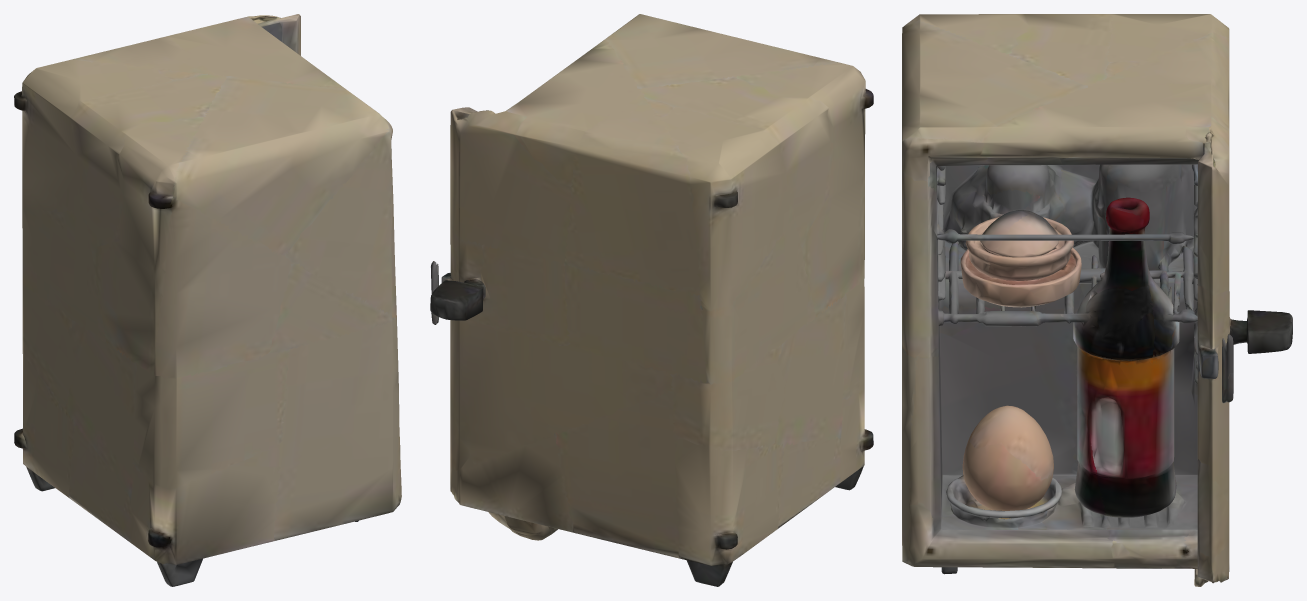
The model's file is fridge-web.glb.
3 views of the same model, side by side, from view 1: azimuth 30°, elevation 25°; view 2: azimuth 150°, elevation 25°; view 3: azimuth 270°, elevation 25° (orthographic). The views are drawn at different scales.
Parts seen in each view (by area): view 1: tripo_node_642e17c4-815a-4804-9e90-caac6ae4e052; view 2: tripo_node_642e17c4-815a-4804-9e90-caac6ae4e052; view 3: tripo_node_642e17c4-815a-4804-9e90-caac6ae4e052.
Part boxes in pixels (x1,y1,x2,y2): tripo_node_642e17c4-815a-4804-9e90-caac6ae4e052: [14, 14, 401, 586]; tripo_node_642e17c4-815a-4804-9e90-caac6ae4e052: [430, 14, 873, 586]; tripo_node_642e17c4-815a-4804-9e90-caac6ae4e052: [902, 14, 1292, 586].
Bounding box in the file's own units: 0.7375 × 0.9998 × 0.7684.
Materials: 1 (1 with a texture image).
